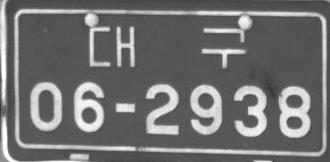0: (29, 80, 63, 132)
2: (145, 82, 179, 135)
3: (233, 84, 267, 137)
6: (72, 79, 105, 133)
8: (278, 85, 311, 138)
9: (189, 82, 223, 135)
대구_D: (89, 25, 246, 69)
